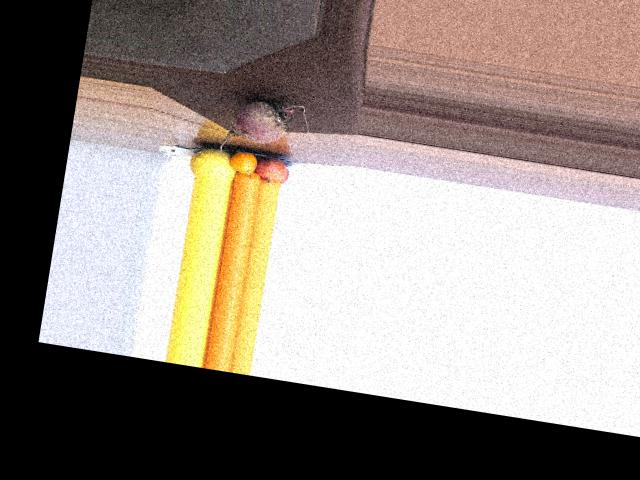beet: (218, 93, 312, 169)
